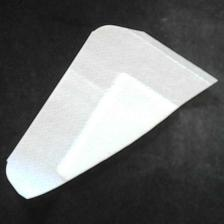Cut: (4, 23, 224, 207)
